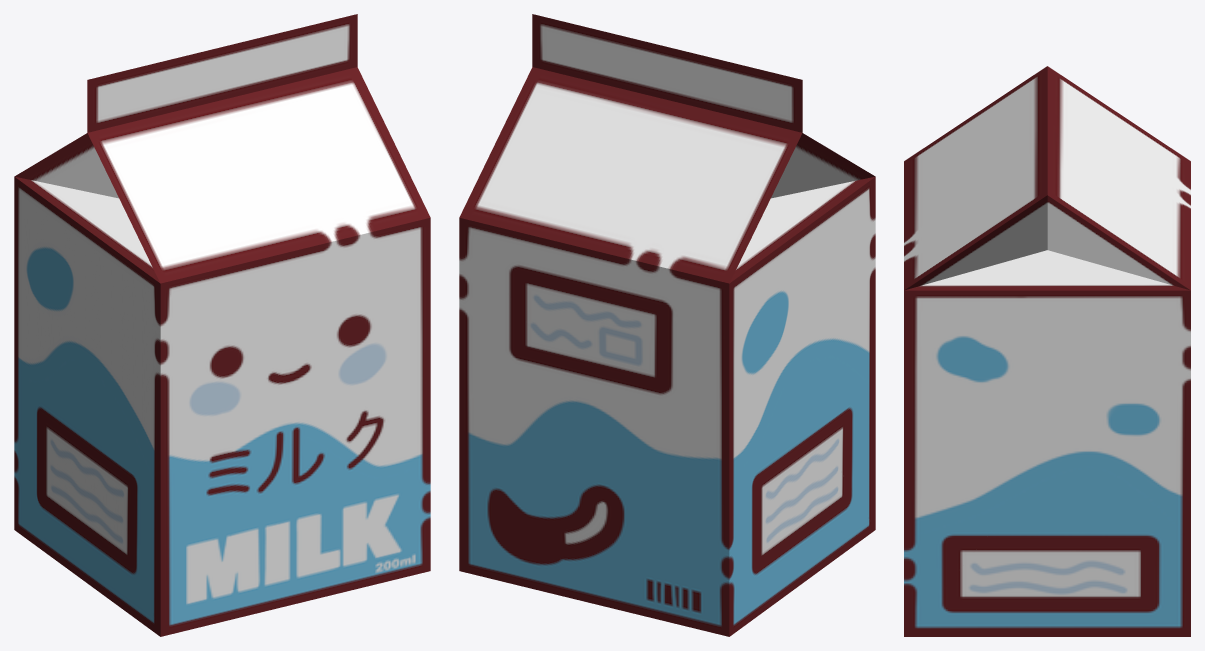
File: milk.glb
3 renders of one model, left to right at view 1: azimuth 30°, elevation 25°; view 2: azimuth 150°, elevation 25°; view 3: azimuth 270°, elevation 25°, orthographic.
Visible parts, largest first — view 1: Cubo; view 2: Cubo; view 3: Cubo.
Part boxes in pixels (x1=…): Cubo: x1=14, y1=14, x2=430, y2=636; Cubo: x1=459, y1=14, x2=875, y2=636; Cubo: x1=904, y1=66, x2=1190, y2=636.
Size of the model in its own units: 1.6 by 2.85 by 1.5.
1 material, 1 textured.
